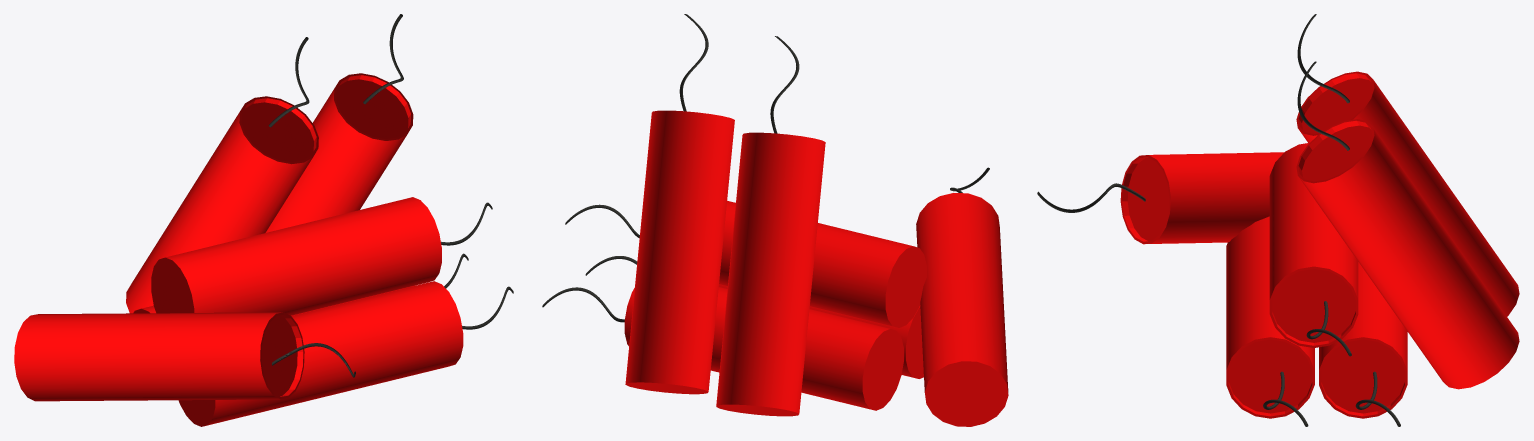
Rendered from firecracker.FBX.
The picture shows the model from 3 angles, left to right: view 1: azimuth 30°, elevation 25°; view 2: azimuth 150°, elevation 25°; view 3: azimuth 270°, elevation 25°; orthographic projection. The views are drawn at different scales.
Parts seen in each view (by area): view 1: firecrackers; view 2: firecrackers; view 3: firecrackers.
Boxes of the visible parts, x1,y1,x2,y2 form: firecrackers: (14,14,513,426); firecrackers: (542,14,1008,426); firecrackers: (1037,14,1519,426).
Bounding box in the file's own units: 79.88 × 55.04 × 69.19.
